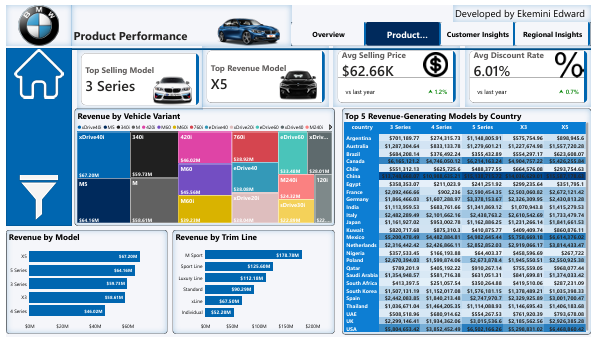

What the dashboard file says about the page in this screenshot:
{"tool":"powerbi","page":{"name":"Product Performance","canvas":[1920,1080],"ordinal":1},"visuals":[{"type":"shape","box":[0,141.2,215.1,582.6],"z":0},{"type":"image","box":[0,560.2,215.1,145.6],"z":0,"group":"g1"},{"type":"shape","box":[215.1,125.5,1705.1,38.1],"z":1000},{"type":"image","box":[687.9,35.9,219.6,107.6],"z":2000},{"type":"image","box":[0,0,216,134.4],"z":3000},{"type":"textbox","box":[216,0,718.5,134.4],"z":4000},{"type":"image","box":[0,145.6,215.1,161.3],"z":5000},{"type":"cardVisual","fields":{"Data":["_Measures.Top Selling Model"]},"box":[233.6,145.5,412.2,196.2],"z":6000},{"type":"cardVisual","fields":{"Data":["_Measures.Highest Revenue Model"]},"box":[645.7,136.7,412,197.2],"z":7000},{"type":"cardVisual","fields":{"Data":["_Measures.Avg Selling Price"]},"box":[1076.6,136.7,412,197.2],"z":8000},{"type":"cardVisual","fields":{"Data":["_Measures.Avg Discount Rate"]},"box":[1507.5,136.7,412.3,197.2],"z":9000},{"type":"clusteredBarChart","title":"Revenue by Model","fields":{"Category":["Transaction_Fact.model"],"Y":["_Measures.Revenue"]},"box":[0,739.4,528.8,340.6],"z":10000},{"type":"barChart","title":"Revenue by Trim Line","fields":{"Category":["Transaction_Fact.trim_line"],"Y":["_Measures.Revenue"]},"box":[546.7,739.4,531,340.6],"z":11000},{"type":"treemap","title":"Revenue by Vehicle Variant","fields":{"Group":["Dim_Vehicle.variant"],"Values":["_Measures.Revenue"]},"box":[224.1,338.3,853.7,385.4],"z":12000},{"type":"pivotTable","title":"Top 5  Revenue-Generating Models by Country","fields":{"Rows":["Transaction_Fact.country"],"Columns":["Transaction_Fact.model"],"Values":["_Measures.Revenue"]},"box":[1102.4,338.3,817.8,741.7],"z":13000},{"type":"pageNavigator","box":[934.5,55.1,985.2,79.3],"z":14000},{"type":"group","id":"g1","title":"Product Performance Filter ","box":[0,141.1,451.8,897.1],"z":15000},{"type":"image","box":[462.9,227,167.5,105.8],"z":16000},{"type":"image","box":[875,211.6,167,105],"z":17000},{"type":"image","box":[1357.7,154.3,103.6,81.6],"z":18000},{"type":"image","box":[1794.1,154.3,103.6,81.6],"z":19000},{"type":"textbox","box":[1467.9,0,451.8,55.1],"z":20000}]}

Visuals, with their boxes in screenshot pixels (x1, y1, x2, y2), scaled from the page's 1920x1080 canvas onto the 591x337 screenshot:
shape: x1=0, y1=44, x2=66, y2=226
image: x1=0, y1=175, x2=66, y2=220
shape: x1=66, y1=39, x2=590, y2=51
image: x1=212, y1=11, x2=279, y2=45
image: x1=0, y1=0, x2=66, y2=42
textbox: x1=66, y1=0, x2=288, y2=42
image: x1=0, y1=45, x2=66, y2=96
cardVisual - _Measures.Top Selling Model: x1=72, y1=45, x2=199, y2=107
cardVisual - _Measures.Highest Revenue Model: x1=199, y1=43, x2=326, y2=104
cardVisual - _Measures.Avg Selling Price: x1=331, y1=43, x2=458, y2=104
cardVisual - _Measures.Avg Discount Rate: x1=464, y1=43, x2=590, y2=104
"Revenue by Model" clusteredBarChart: x1=0, y1=231, x2=163, y2=336
"Revenue by Trim Line" barChart: x1=168, y1=231, x2=332, y2=336
"Revenue by Vehicle Variant" treemap: x1=69, y1=106, x2=332, y2=226
"Top 5  Revenue-Generating Models by Country" pivotTable: x1=339, y1=106, x2=590, y2=336
pageNavigator: x1=288, y1=17, x2=590, y2=42
"Product Performance Filter " group: x1=0, y1=44, x2=139, y2=324
image: x1=142, y1=71, x2=194, y2=104
image: x1=269, y1=66, x2=321, y2=99
image: x1=418, y1=48, x2=450, y2=74
image: x1=552, y1=48, x2=584, y2=74
textbox: x1=452, y1=0, x2=590, y2=17
